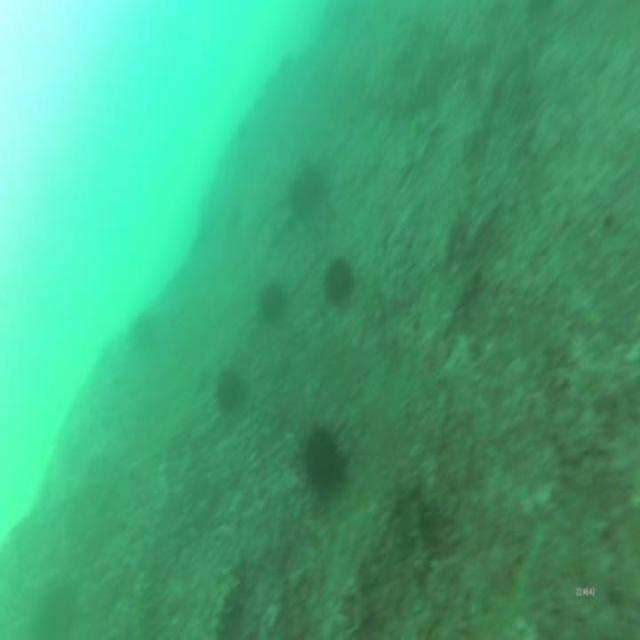echinus: (297, 418, 348, 506), (287, 160, 325, 226), (322, 251, 356, 310), (212, 358, 246, 416), (256, 275, 289, 330), (130, 308, 161, 352)
holothurian: (202, 569, 241, 638), (126, 567, 158, 640)
